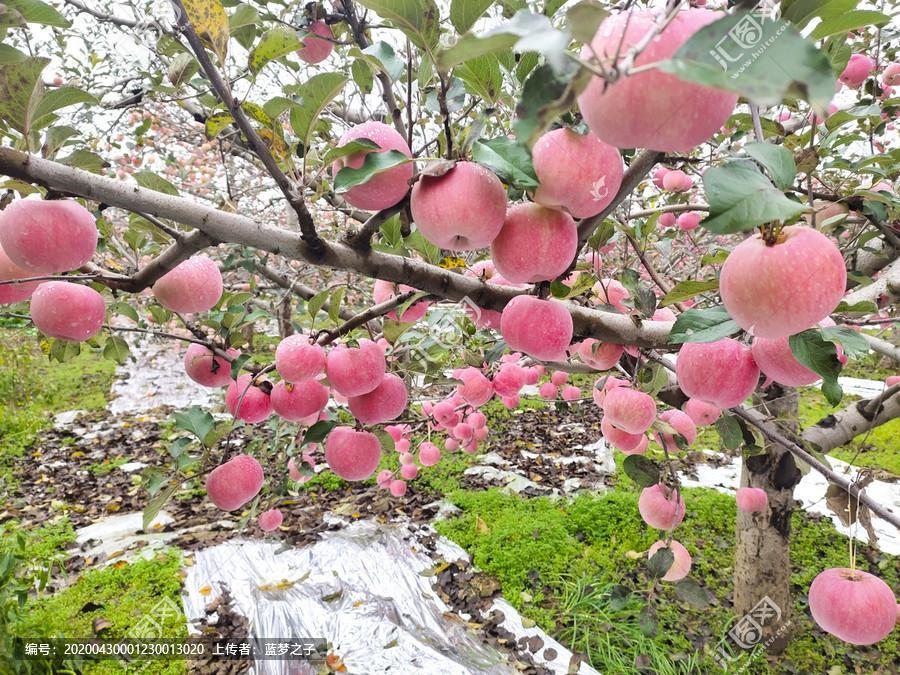apple: (581, 8, 734, 147), (718, 219, 844, 341), (528, 120, 623, 221), (409, 155, 501, 254), (330, 114, 411, 210), (1, 191, 99, 270), (489, 202, 580, 285), (807, 564, 894, 650), (677, 329, 756, 405), (501, 290, 576, 362), (29, 280, 103, 342), (152, 253, 221, 316), (205, 451, 264, 509), (367, 274, 432, 322), (324, 425, 380, 480), (272, 326, 328, 381), (327, 338, 383, 393), (180, 336, 236, 386), (350, 374, 408, 421), (605, 381, 657, 432), (225, 370, 273, 423), (272, 378, 332, 420), (636, 481, 689, 527), (289, 15, 334, 64), (647, 534, 693, 581), (579, 329, 626, 372), (657, 410, 697, 457), (456, 366, 495, 407), (732, 474, 773, 513), (837, 52, 876, 84), (494, 362, 526, 399), (684, 399, 723, 428), (434, 402, 459, 424)
